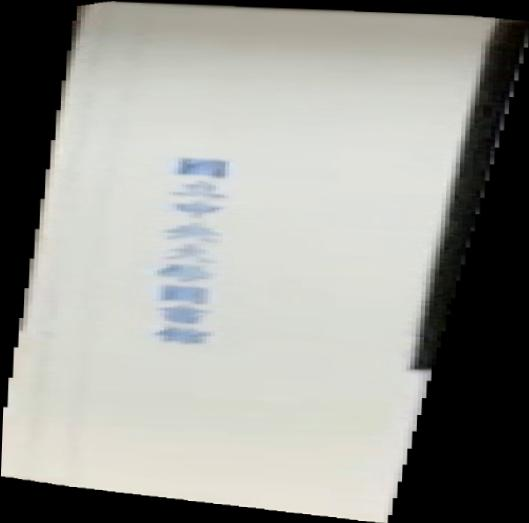backward: (1, 1, 529, 523)
